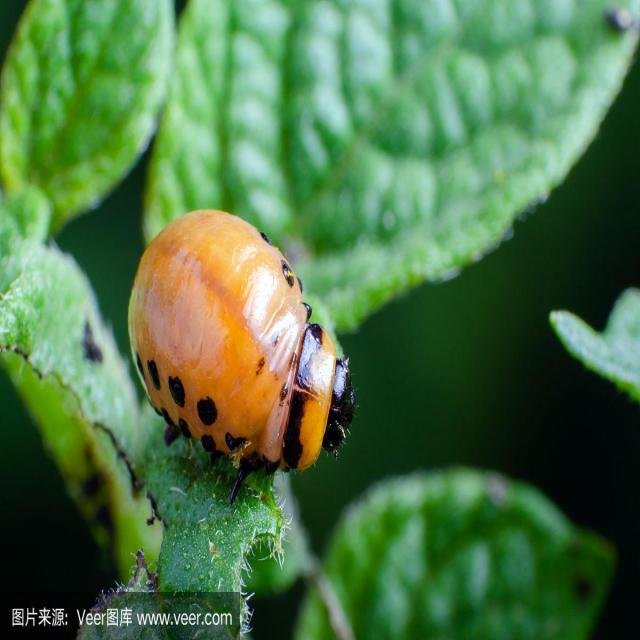ShuCaiHuaBanChong-Larva-: (112, 182, 365, 496)
